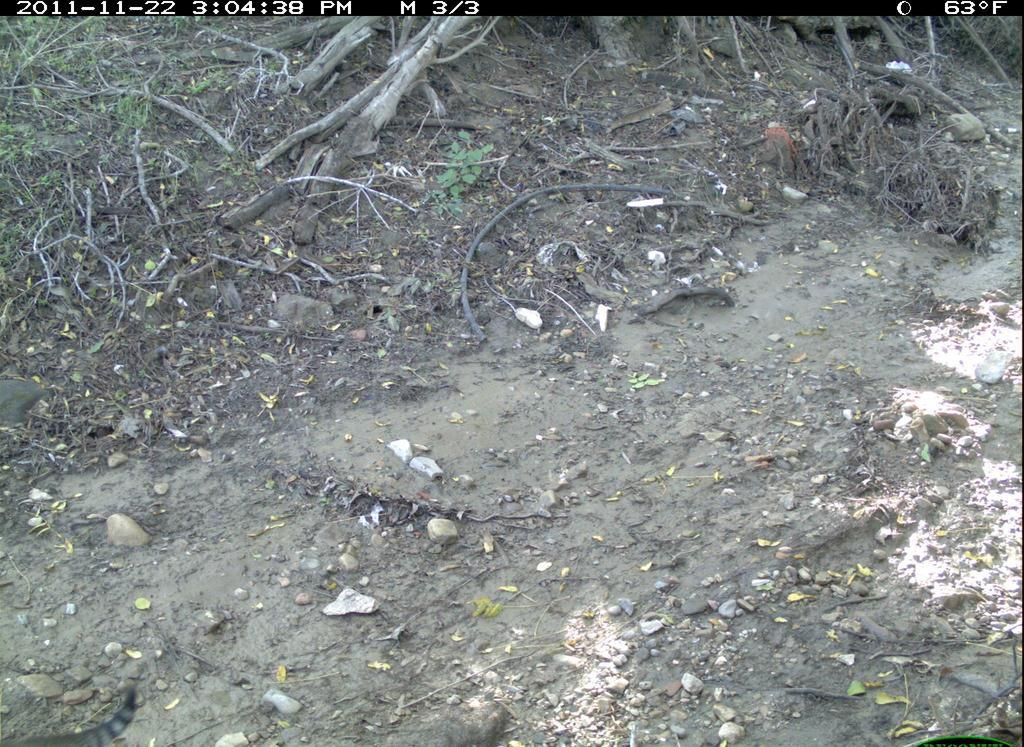cat: (17, 675, 177, 745)
